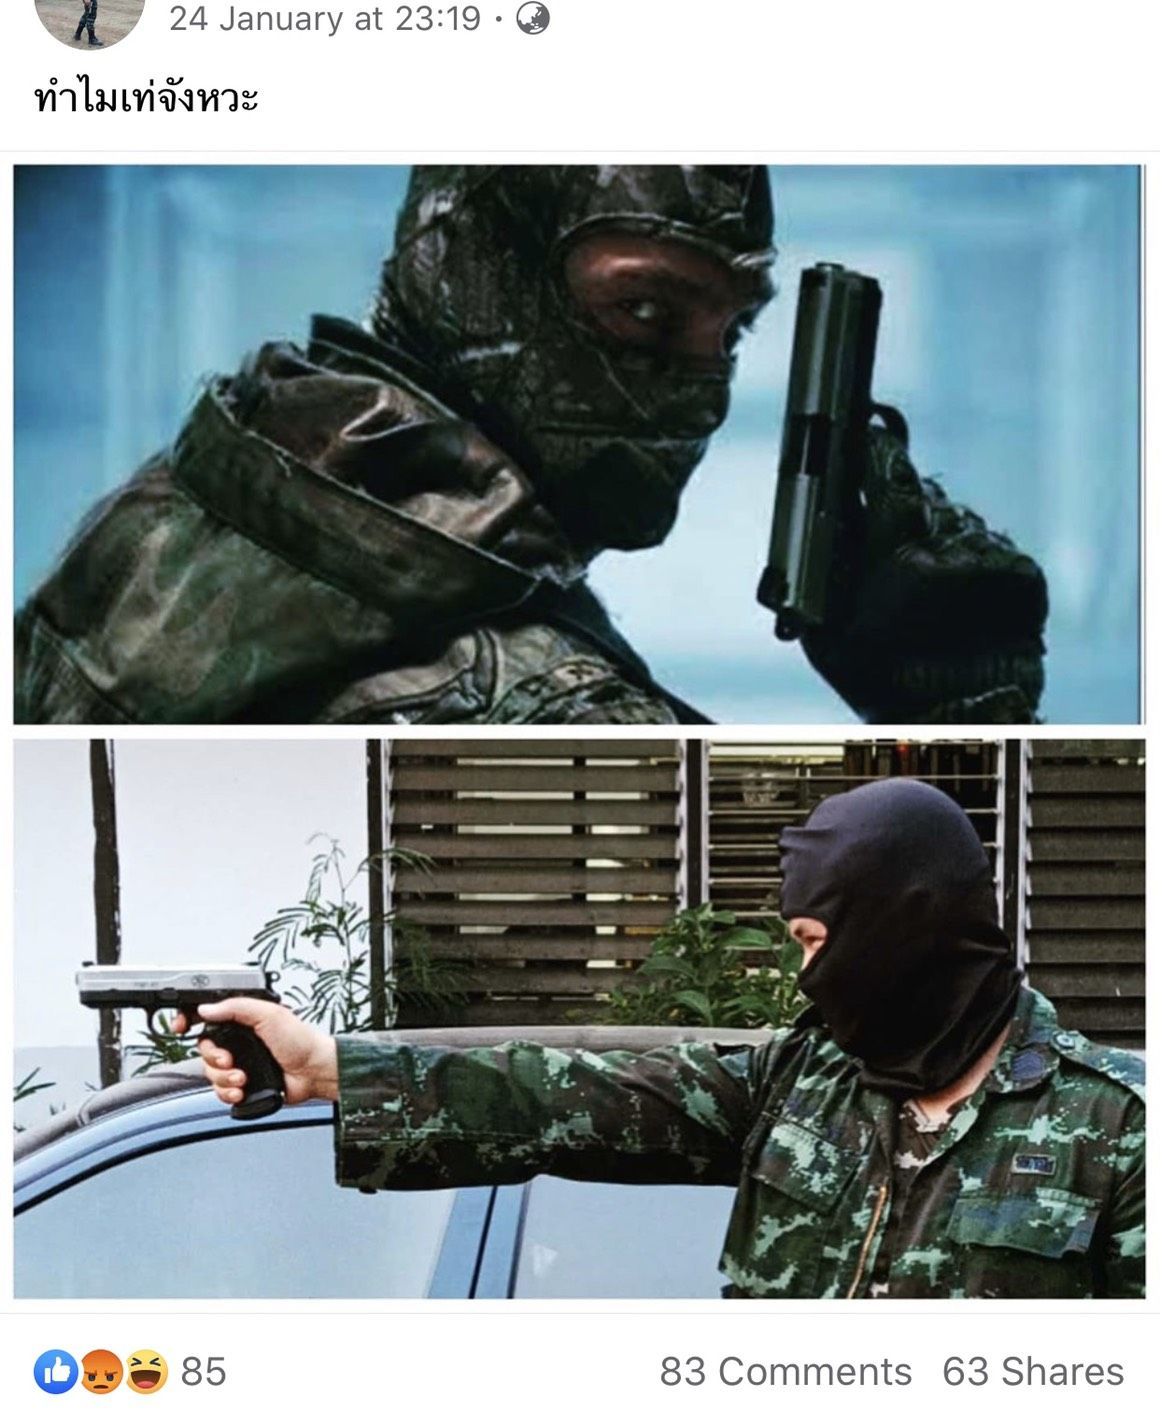gun: (754, 256, 921, 652), (72, 958, 291, 1125)
